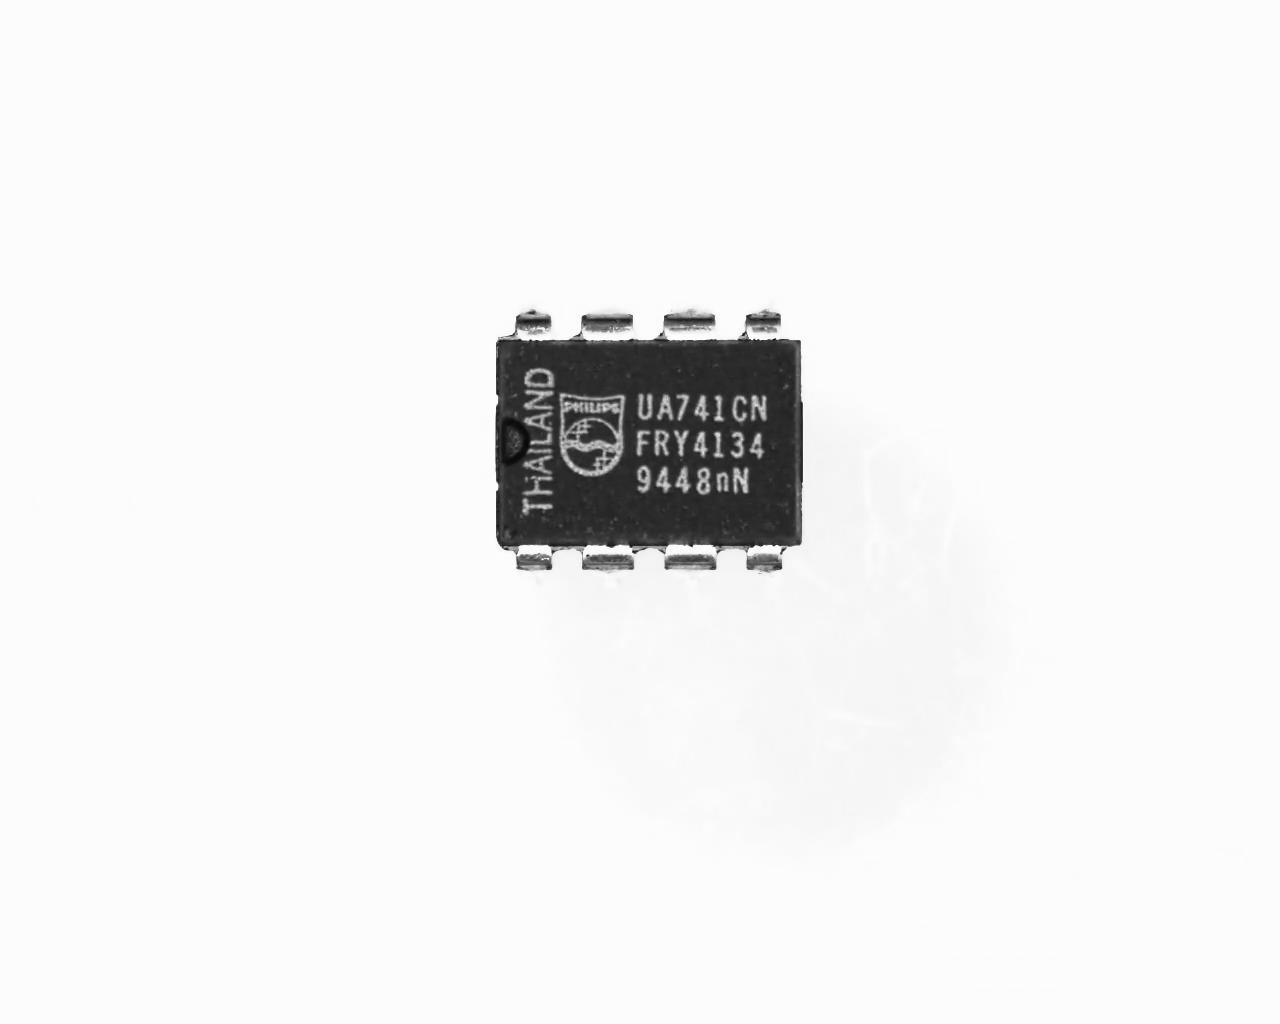Leg: (502, 296, 558, 345), (650, 543, 729, 575), (575, 305, 641, 341), (657, 305, 721, 342), (742, 299, 791, 345), (575, 546, 639, 579), (739, 540, 789, 577), (503, 543, 556, 573)
